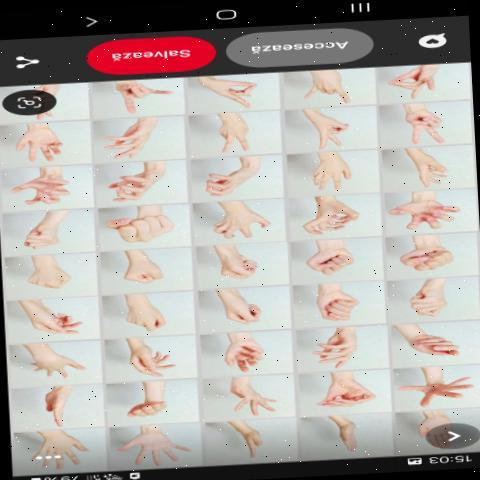Hands: (293, 144, 369, 198), (105, 428, 200, 471), (0, 122, 81, 163), (87, 121, 167, 161), (391, 369, 475, 405), (385, 148, 458, 186), (115, 382, 177, 424), (208, 336, 267, 378), (308, 328, 366, 368), (22, 433, 86, 466), (396, 331, 459, 361)
